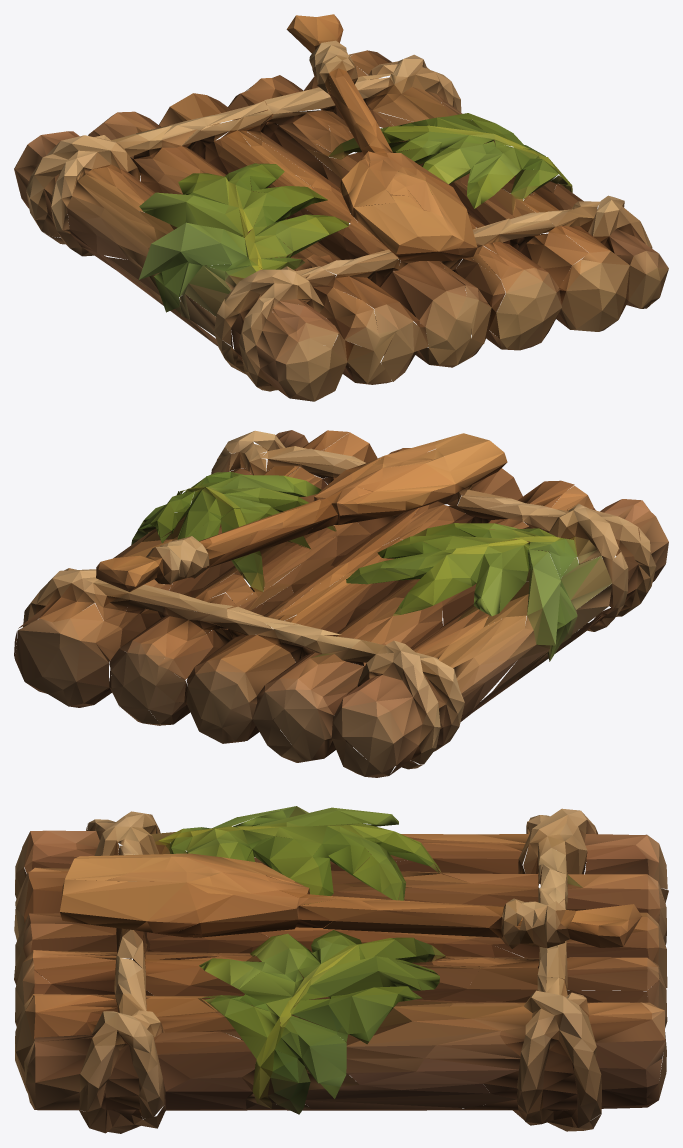
The model's file is building-smallRaft.glb.
3 views of the same model, one above another, from view 1: azimuth 30°, elevation 25°; view 2: azimuth 150°, elevation 25°; view 3: azimuth 270°, elevation 25° (orthographic). The views are drawn at different scales.
Visible parts, largest first — view 1: 0_smallRaft; view 2: 0_smallRaft; view 3: 0_smallRaft.
Boxes of the visible parts, bbox=[...] form: 0_smallRaft: bbox=[14, 14, 668, 401]; 0_smallRaft: bbox=[14, 430, 668, 777]; 0_smallRaft: bbox=[14, 806, 668, 1133].
Bounding box in the file's own units: 1.92 × 0.6998 × 2.24.
